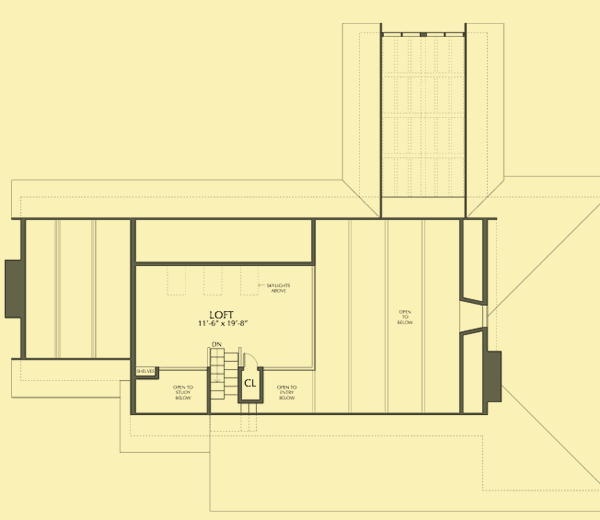stairs: (202, 346, 244, 414)
windows: (381, 29, 463, 41)
